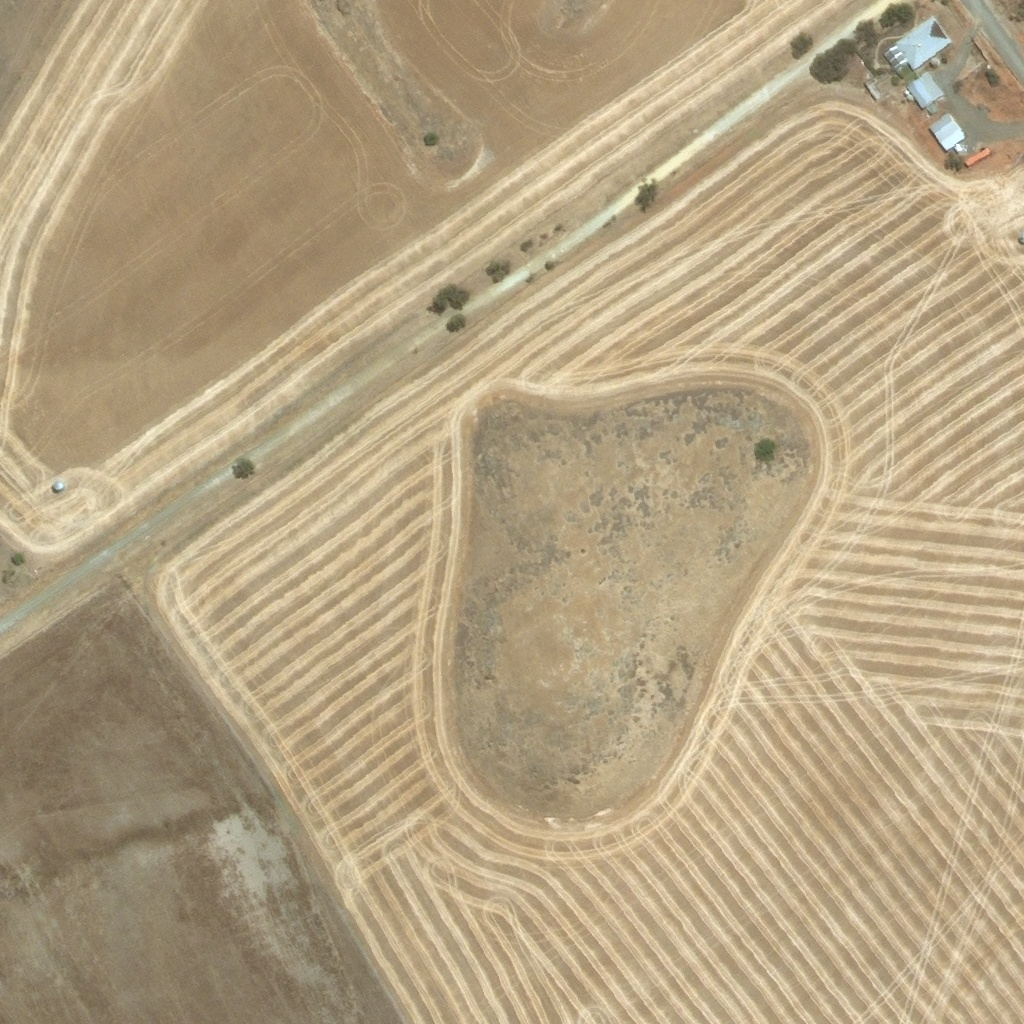0 no-damage: (882, 15, 952, 71), (928, 113, 965, 152), (905, 72, 944, 109), (964, 149, 989, 167), (926, 106, 935, 116), (953, 145, 962, 154), (931, 58, 938, 66), (906, 96, 912, 102), (903, 91, 909, 96)
